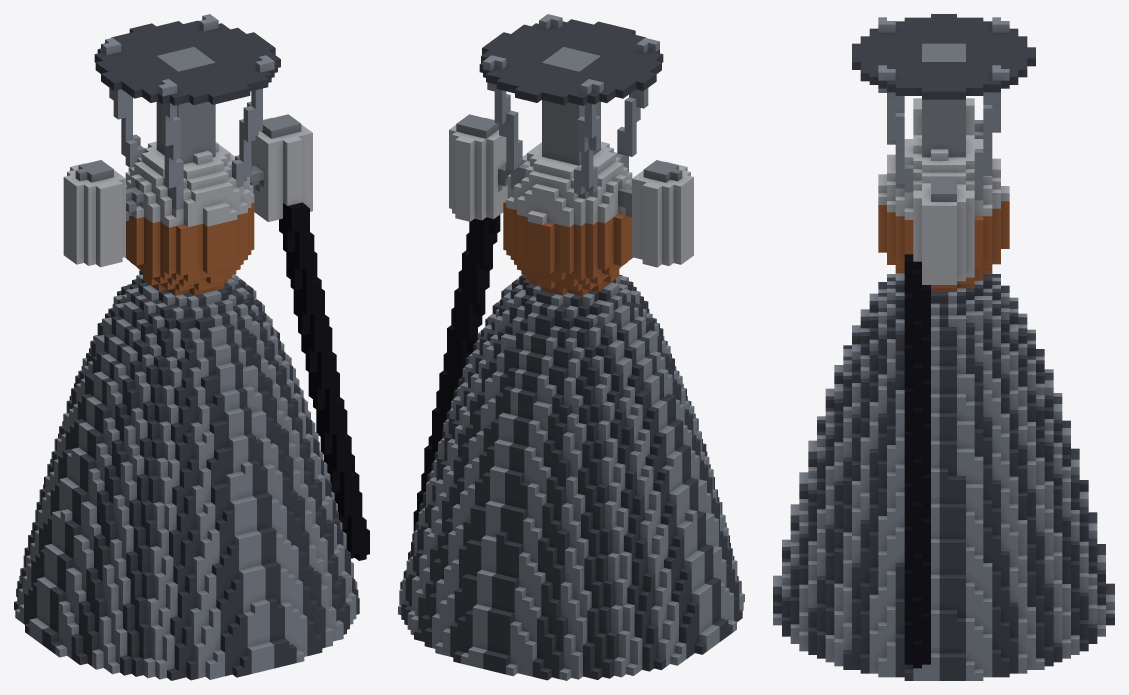
The model's file is eng_hidra_j2.glb.
The picture shows the model from 3 angles, left to right: view 1: azimuth 30°, elevation 25°; view 2: azimuth 150°, elevation 25°; view 3: azimuth 270°, elevation 25°; orthographic projection.
Visible parts, largest first — view 1: eng_hidra_j2; view 2: eng_hidra_j2; view 3: eng_hidra_j2.
Part boxes in pixels (left/top/right/bottom): eng_hidra_j2: left=14, top=14, right=369, bottom=680; eng_hidra_j2: left=398, top=14, right=744, bottom=680; eng_hidra_j2: left=773, top=14, right=1114, bottom=680.
Size of the model in its own units: 2.1 by 3.55 by 1.95.
